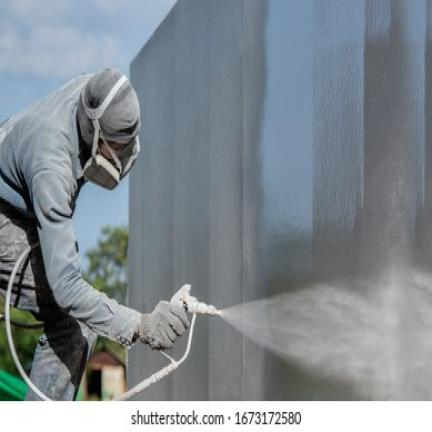besi_tidak_karat: (128, 0, 431, 399)
